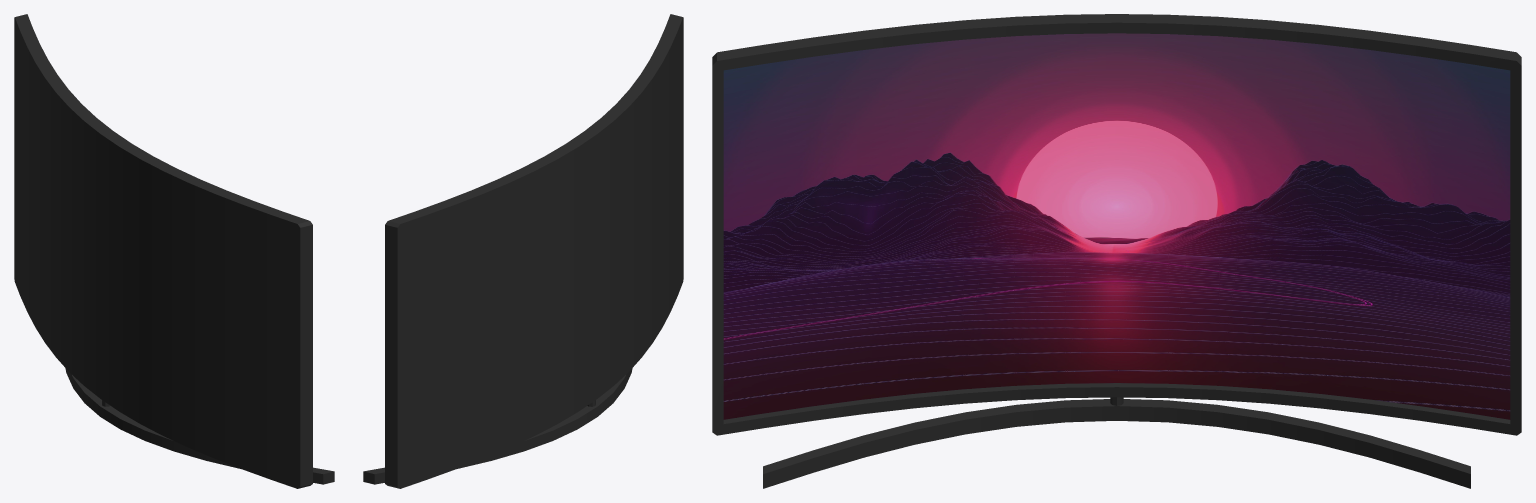
3 renders of one model, left to right at view 1: azimuth 30°, elevation 25°; view 2: azimuth 150°, elevation 25°; view 3: azimuth 270°, elevation 25°, orthographic. The views are drawn at different scales.
Parts seen in each view (by area): view 1: Object_3; view 2: Object_3; view 3: Object_2, Object_3.
Boxes of the visible parts, <box> form: Object_3: <box>14,14,334,488</box>; Object_3: <box>363,14,683,488</box>; Object_2: <box>723,33,1510,419</box>; Object_3: <box>712,14,1521,488</box>.
Bounding box in the file's own units: 4.85 × 11.97 × 21.95.
2 materials, 2 textured.
